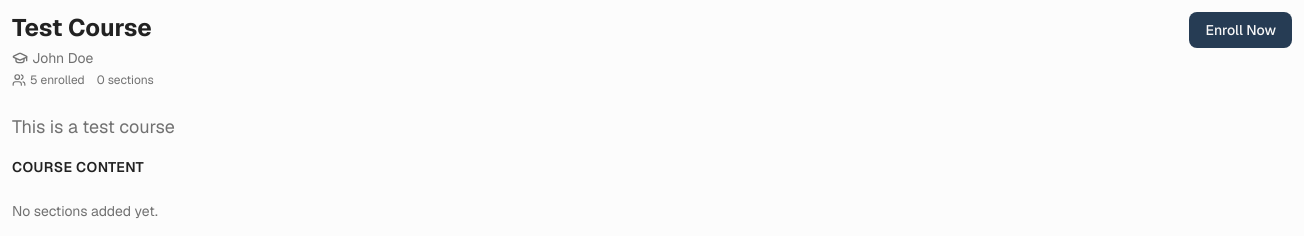
Test: CourseDetail Component › renders course title and handles enrollment
Expected: the heading "Test Course" is shown, [12, 12, 154, 44]
Click enroll
Click the button "Enroll Now": (1241, 30) [1189, 12, 1292, 48]
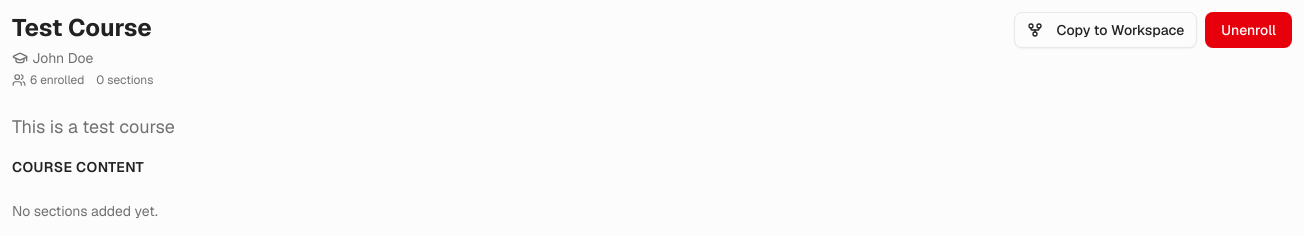
Expected: the button "Unenroll" is shown, [1205, 12, 1292, 48]
